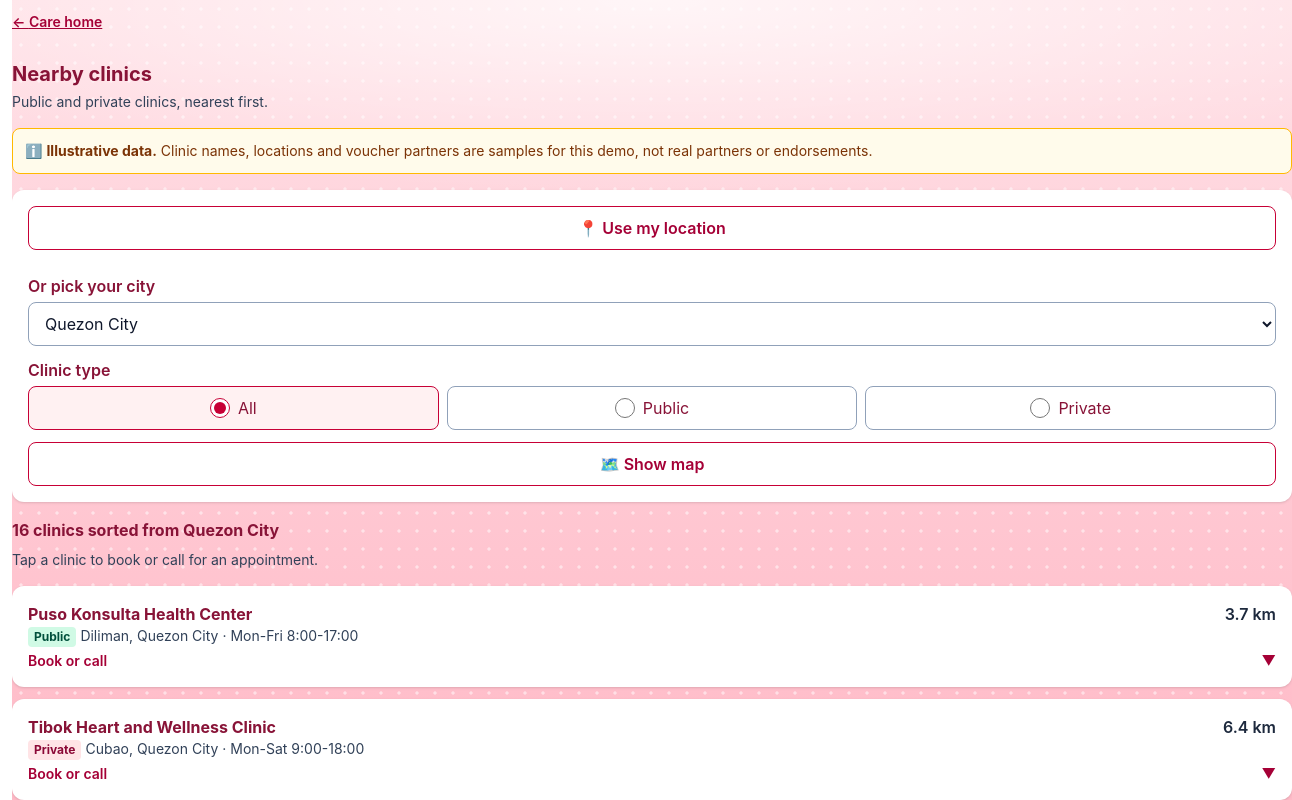
it: clinic finder screen › filters by public and by private
Click the radio button labelled "Public".
click(625, 408)  # box [615,398,635,418]
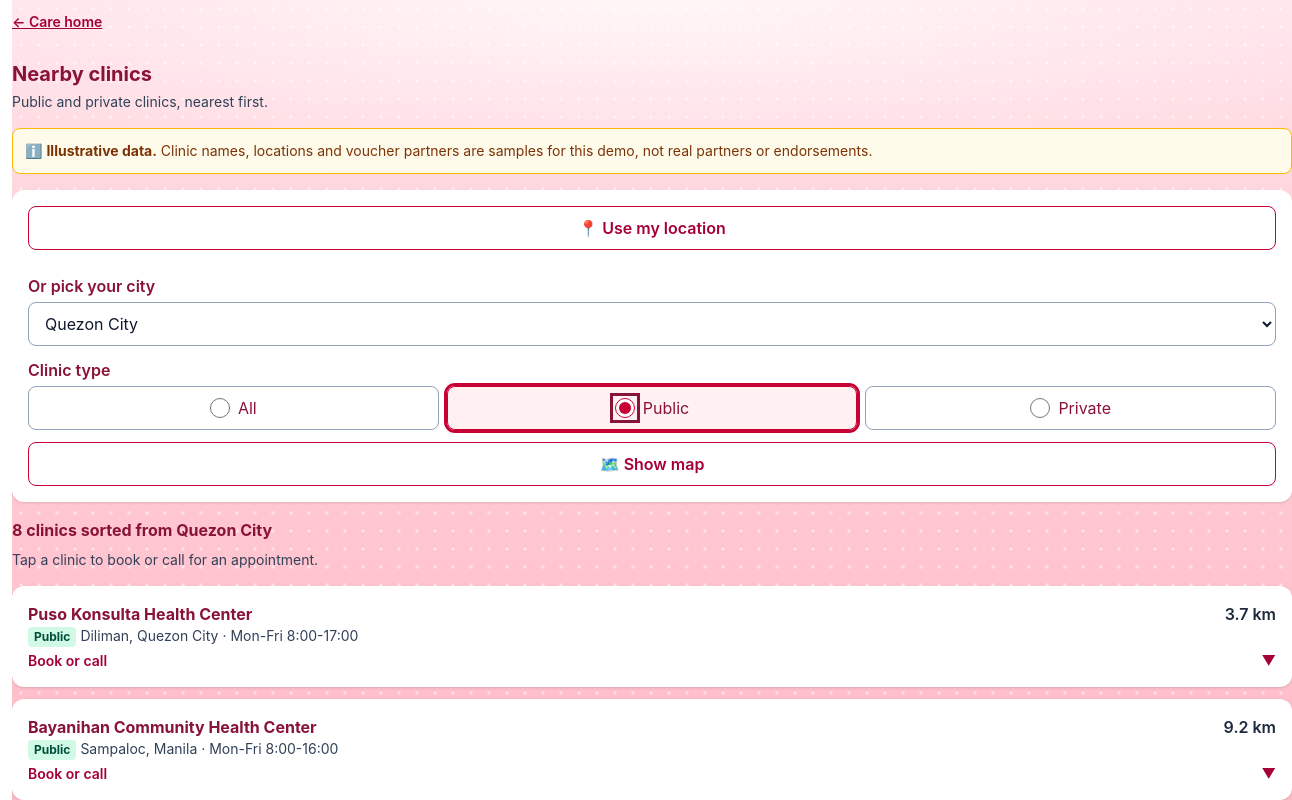
Expected: the list item that starts with "Puso Konsulta Health Center" is shown, [12,586,1291,687]
Expected: the 1st text "Public" is shown, [28,627,76,647]
Click the radio button labelled "Private".
click(1040, 408)  # box [1030,398,1050,418]
(page scrolled)
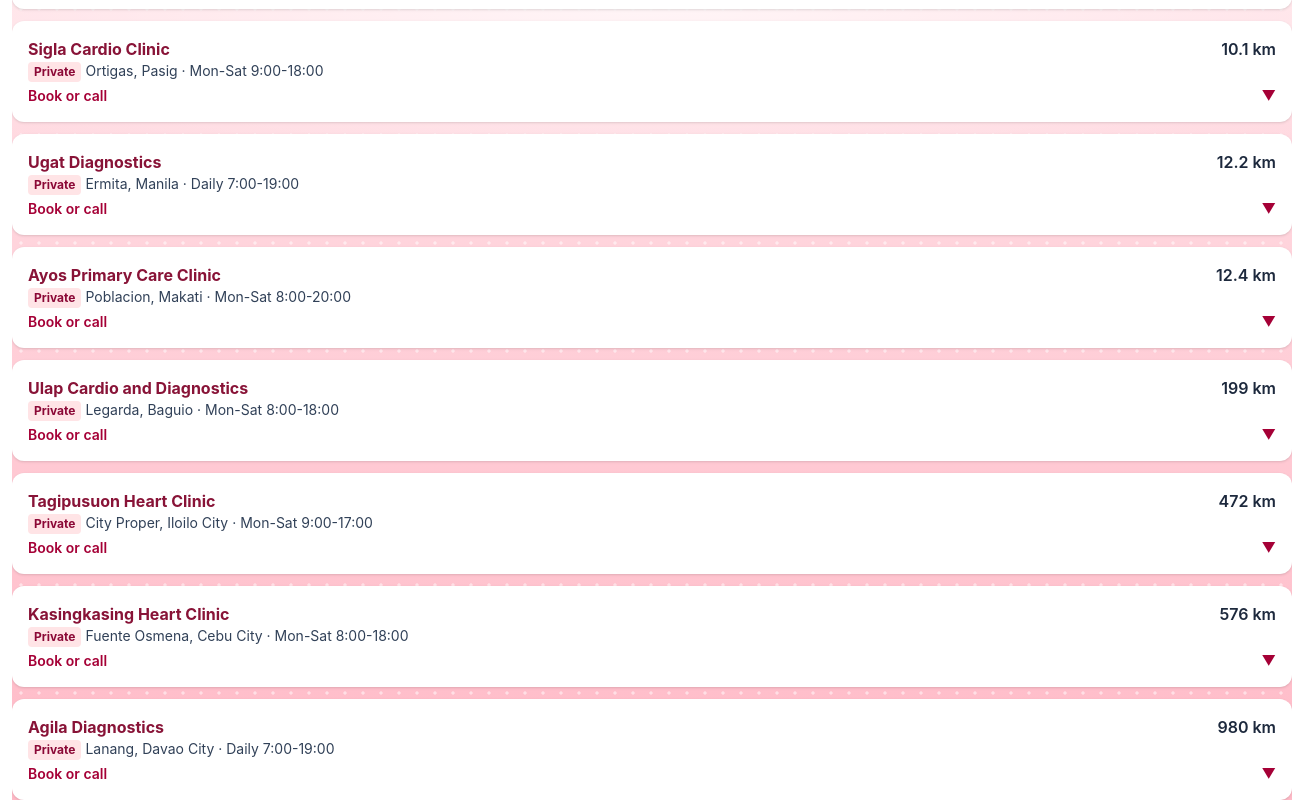
Expected: the 1st text "Private" is shown, [28,62,81,82]
Expected: the 2nd text "Private" is shown, [28,175,81,195]
Expected: the 3rd text "Private" is shown, [28,288,81,308]
